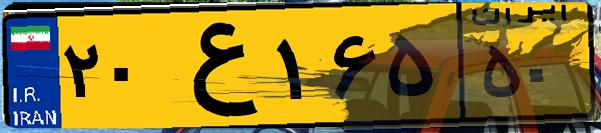0: (525, 38, 570, 115), (110, 28, 158, 98)
1: (270, 28, 330, 110)
2: (57, 26, 110, 100)
5: (385, 28, 445, 110), (475, 38, 525, 113)
6: (330, 28, 385, 110)
ع: (158, 12, 270, 120)
